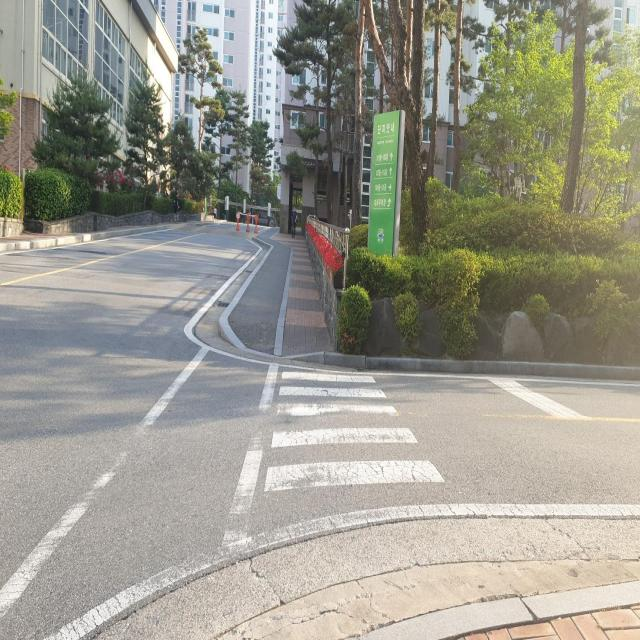횡단보도: (262, 370, 446, 494)
